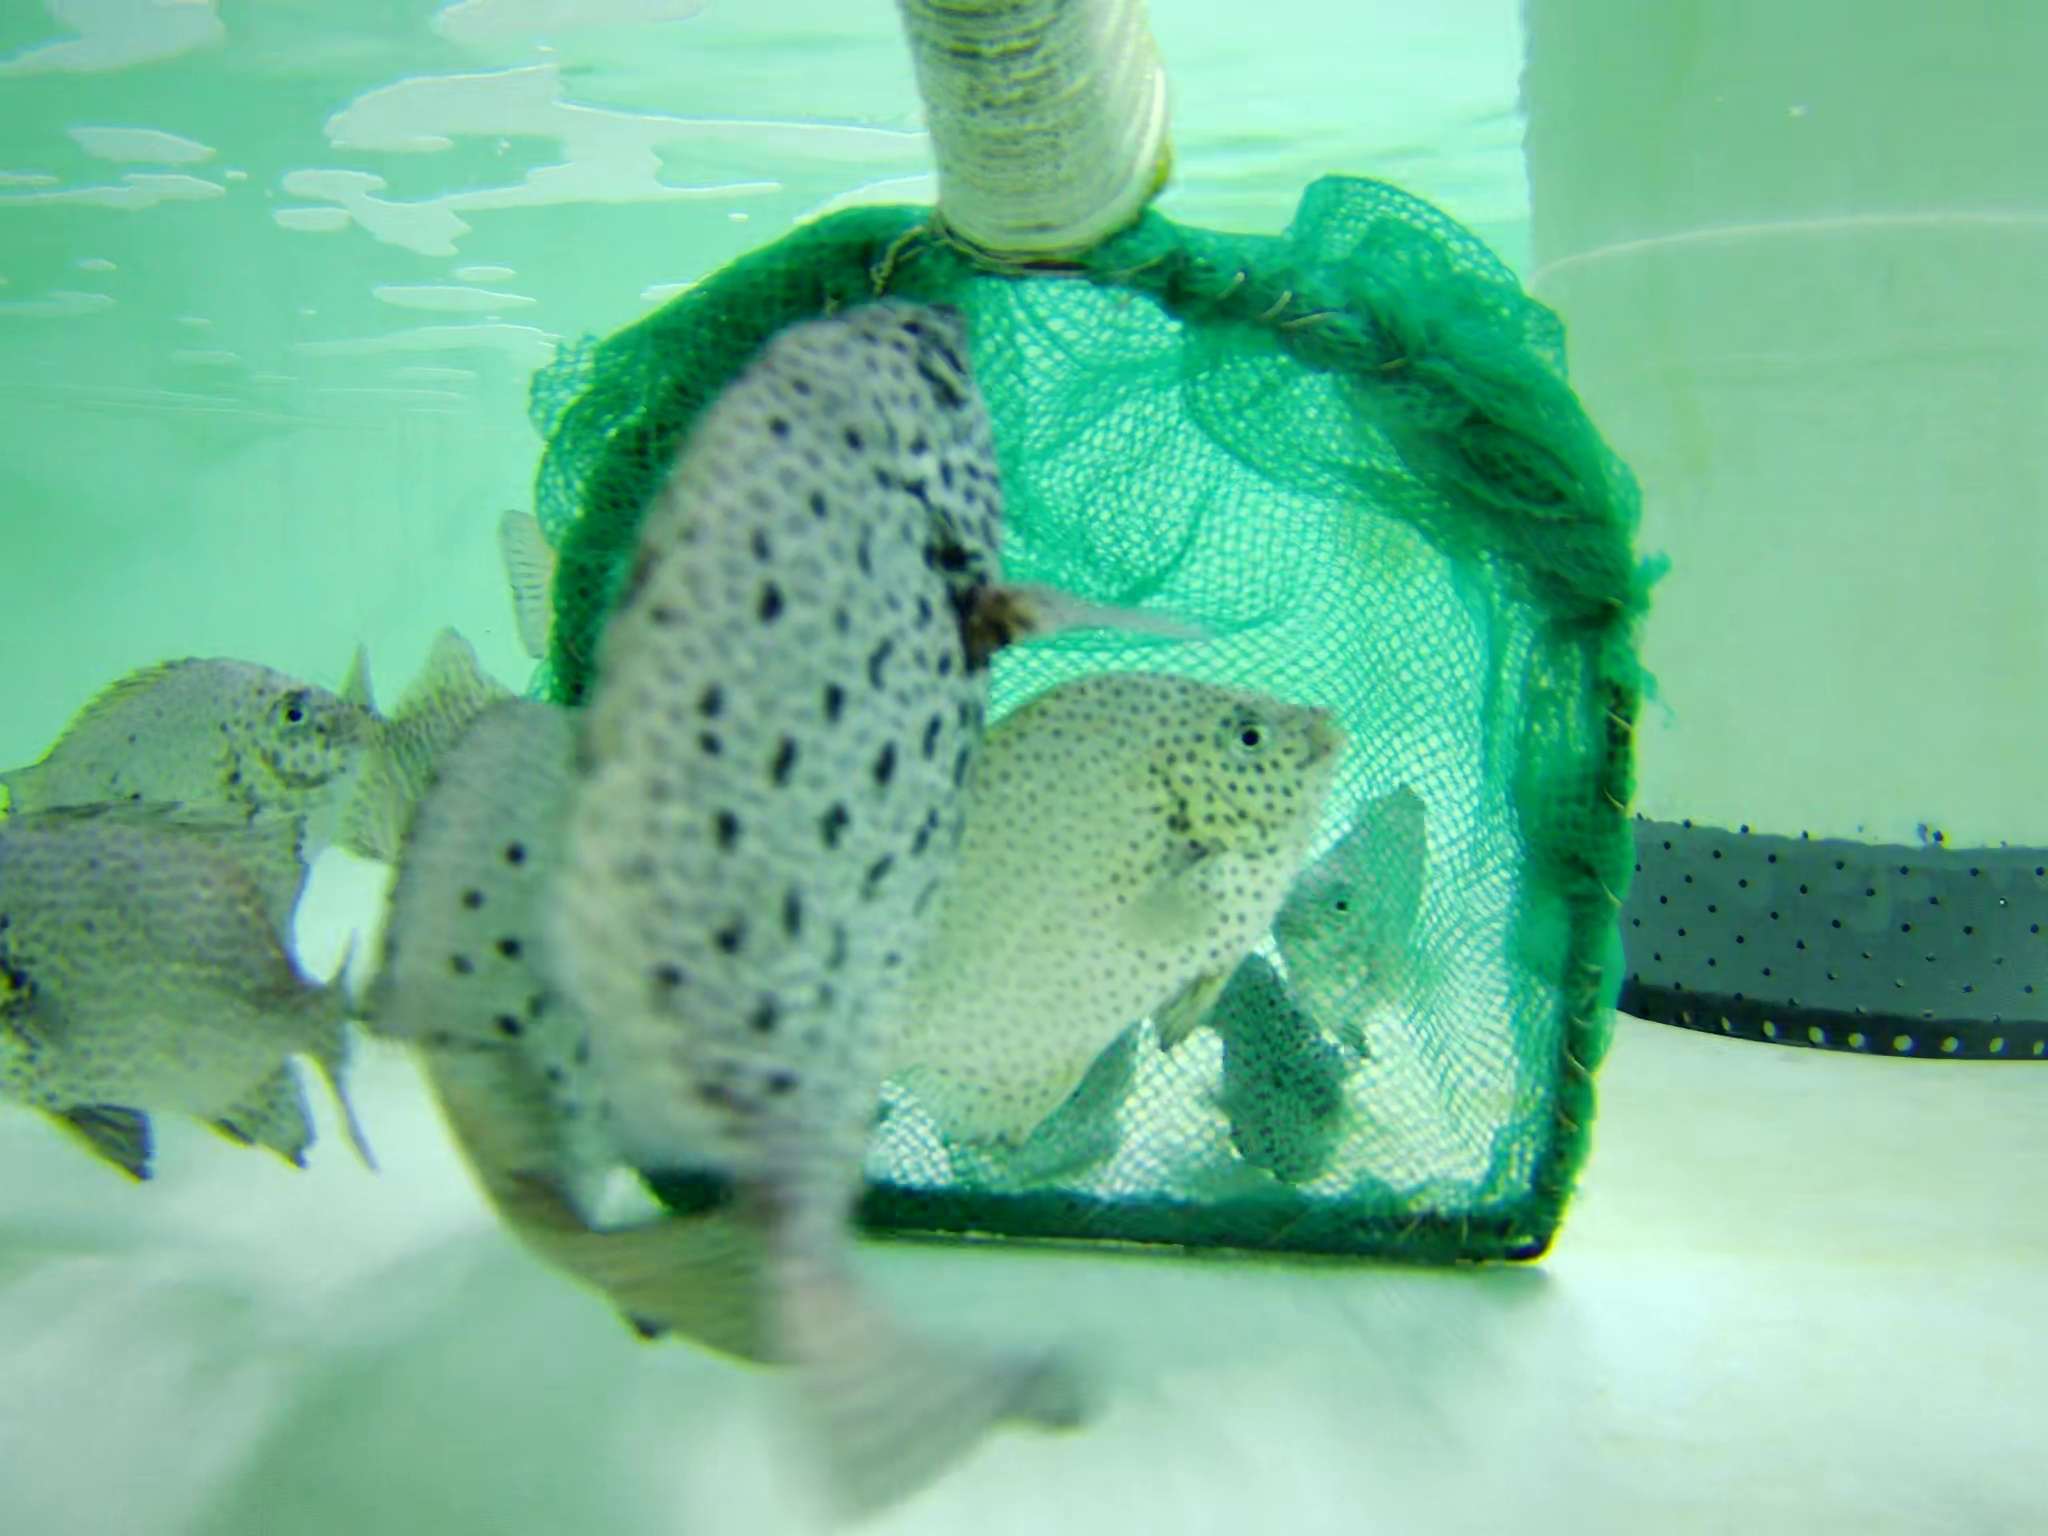fish: (539, 268, 1127, 1488), (373, 639, 806, 1371), (845, 679, 1337, 1194), (2, 807, 387, 1199), (13, 647, 397, 879), (326, 641, 555, 868), (1282, 771, 1442, 1062), (1200, 958, 1359, 1196), (490, 487, 627, 676)
